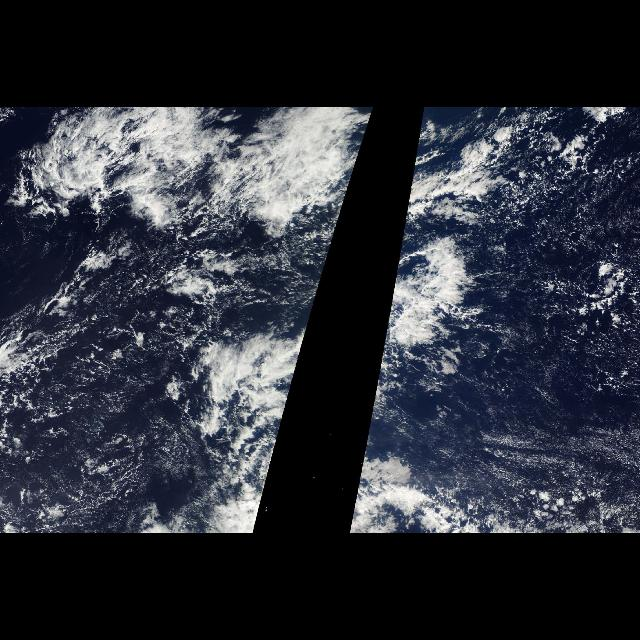Fish: (7, 108, 371, 228)
Gravel: (0, 246, 224, 502), (452, 119, 634, 387)
Sugar: (425, 356, 639, 516)
